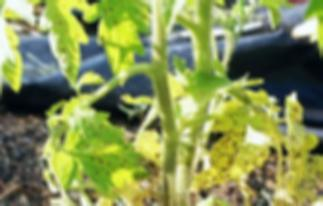Tomato Septoria leaf spot: (46, 111, 154, 200), (190, 110, 274, 199), (266, 101, 323, 206), (30, 0, 87, 85), (87, 0, 149, 70)
